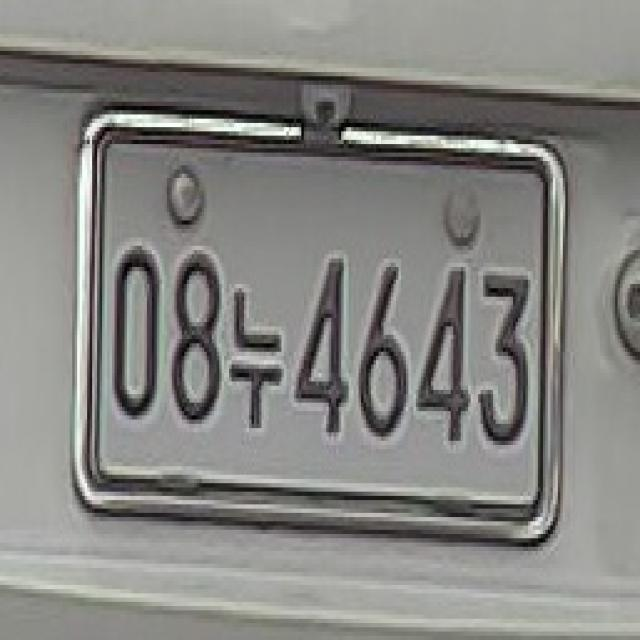plat: (74, 111, 564, 538)
